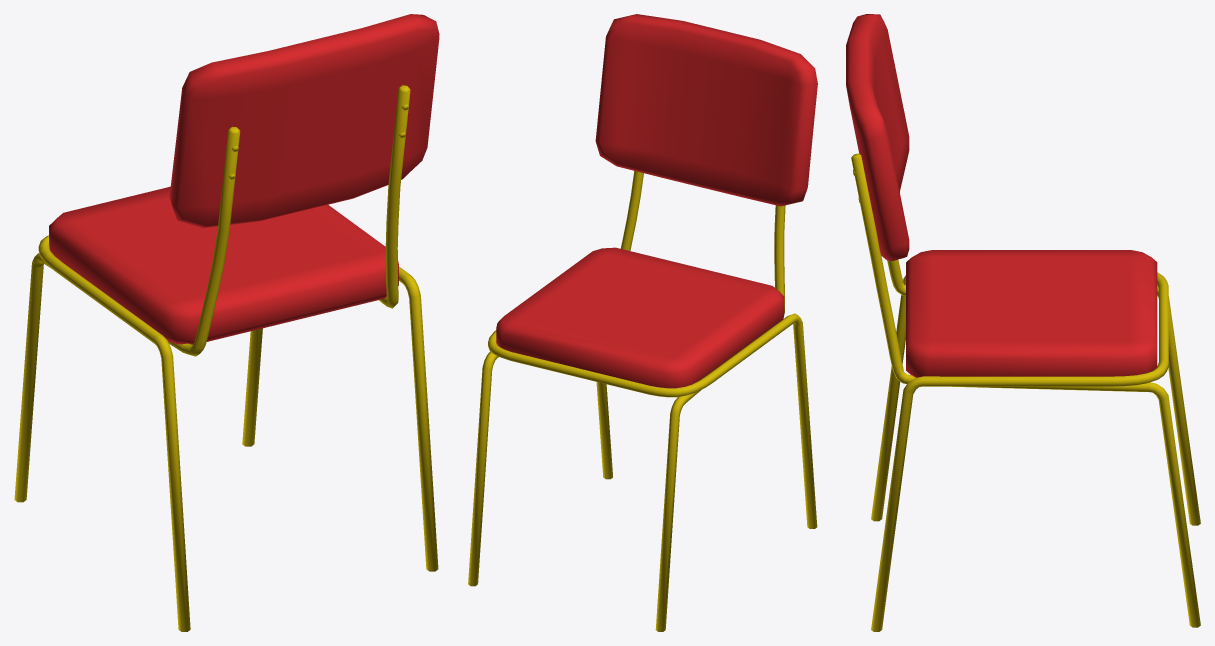
File: SNWP_MOD_BUN_Chair_01.fbx
3 renders of one model, left to right at view 1: azimuth 30°, elevation 25°; view 2: azimuth 150°, elevation 25°; view 3: azimuth 270°, elevation 25°, orthographic. The views are drawn at different scales.
Visible parts, largest first — view 1: SNWP_MOD_Bunker_chair_01; view 2: SNWP_MOD_Bunker_chair_01; view 3: SNWP_MOD_Bunker_chair_01.
Boxes of the visible parts, <box> form: SNWP_MOD_Bunker_chair_01: <box>14,14,439,631</box>; SNWP_MOD_Bunker_chair_01: <box>468,14,817,631</box>; SNWP_MOD_Bunker_chair_01: <box>846,14,1200,631</box>.
Bounding box in the file's own units: 0.4727 × 0.9898 × 0.6155.
